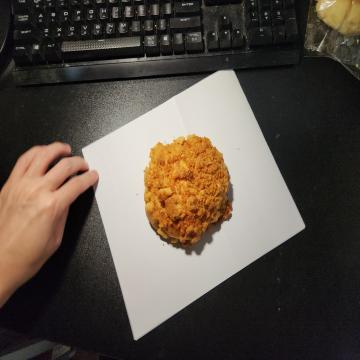soboru_bread: (144, 137, 232, 250)
